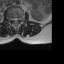CCS_normal: (15, 16, 16, 23)
LFS_normal: (18, 16, 20, 22)
LLS_normal: (16, 16, 18, 22)
RFS_normal: (11, 16, 13, 22)
RLS_normal: (13, 16, 15, 22)
